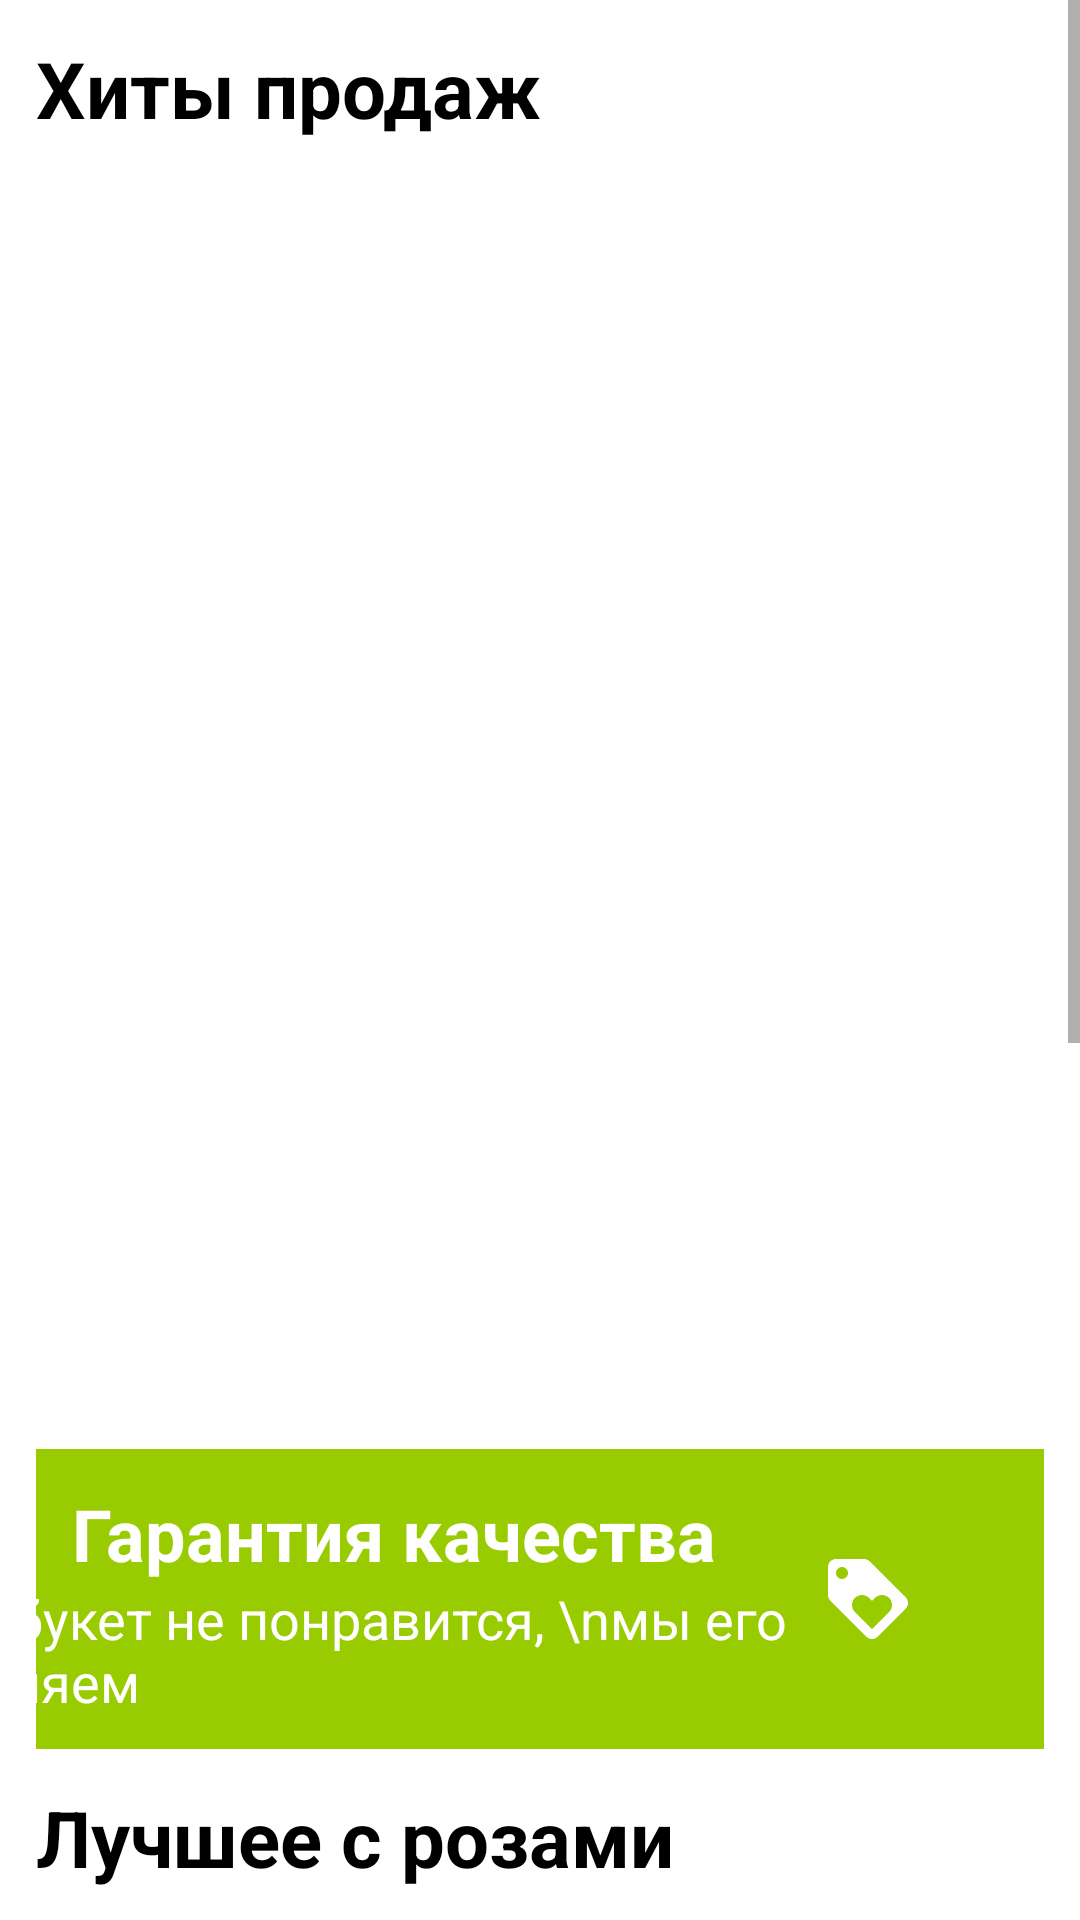

Where icons sit on this 1080*1920 app screen, as [x1=x1, y1=y1, x2=x2, y2=y2]:
loyalty: [x1=828, y1=1559, x2=908, y2=1639]
